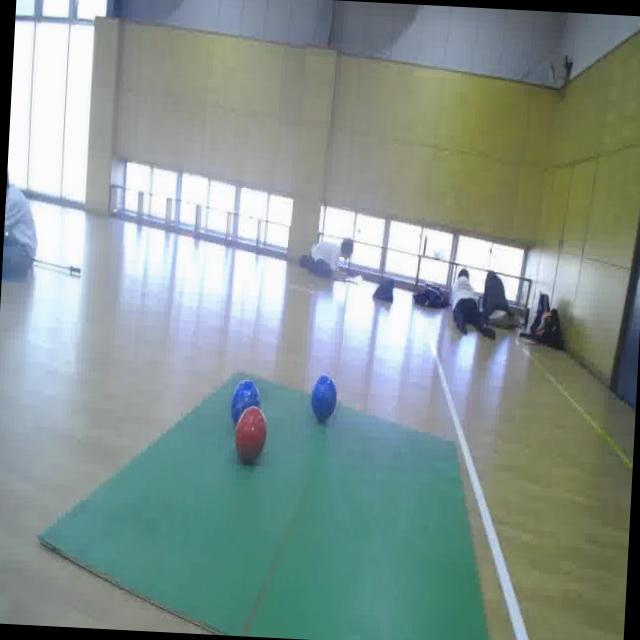blue_ball: (308, 367, 340, 431), (229, 374, 263, 426)
red_ball: (233, 405, 269, 468)
